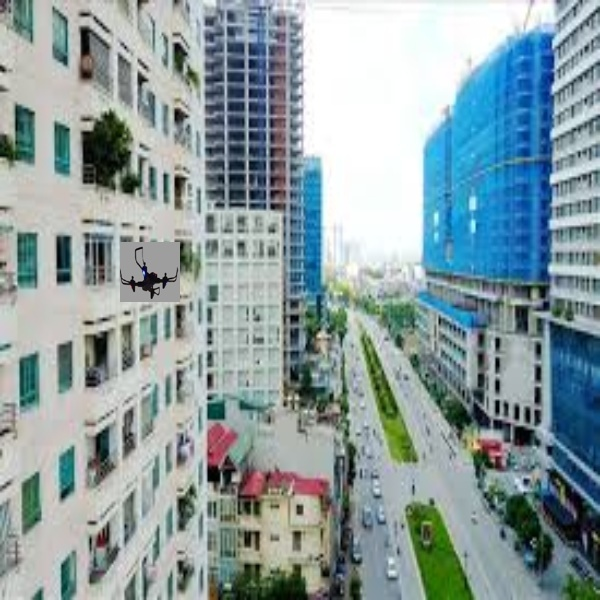drone: (119, 237, 183, 302)
